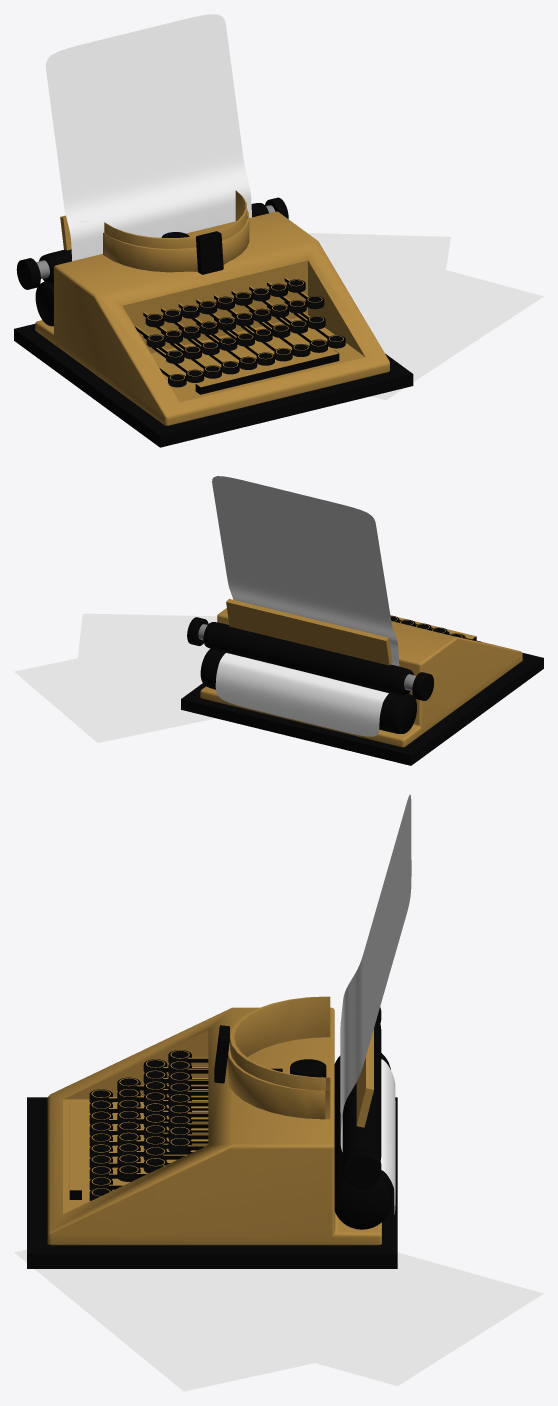
Rendered from typewriting.fbx.
3 renders of one model, top to bottom at view 1: azimuth 30°, elevation 25°; view 2: azimuth 150°, elevation 25°; view 3: azimuth 270°, elevation 25°, orthographic. The views are drawn at different scales.
Visible parts, largest first — view 1: Plane.002, Cube.001, Plane.001, Cube, Plane, Cube.002, Cube.003, Cylinder.003, Cube.004, Cylinder, Cube.005, Cylinder.002 (+2 smaller); view 2: Plane.002, Plane, Plane.001, Cube.001, Cube, Cylinder.002, Cube.006, Cylinder.001, Cylinder.006, Cylinder.005; view 3: Cube.001, Plane.001, Plane, Cube, Plane.002, Cube.003, Cube.002, Cylinder, Cylinder.001, Cylinder.003, Cylinder.002, Cylinder.005 (+3 smaller).
Boxes of the visible parts, x1,y1,x2,y2 form: Plane.002: [46, 14, 251, 261]; Cube.001: [35, 211, 389, 425]; Plane.001: [336, 249, 543, 400]; Cube: [14, 324, 413, 447]; Plane: [307, 233, 450, 359]; Cube.002: [134, 292, 345, 387]; Cube.003: [143, 277, 325, 363]; Cylinder.003: [103, 210, 249, 272]; Cube.004: [195, 350, 339, 394]; Cylinder: [104, 190, 247, 248]; Cube.005: [196, 231, 223, 274]; Cylinder.002: [39, 203, 268, 283]; Plane.002: [212, 476, 399, 736]; Plane: [14, 635, 215, 742]; Plane.001: [74, 613, 217, 695]; Cube.001: [200, 608, 522, 747]; Cube: [181, 653, 543, 765]; Cylinder.002: [203, 622, 413, 695]; Cube.006: [226, 598, 392, 665]; Cylinder.001: [200, 649, 416, 733]; Cylinder.006: [412, 672, 433, 700]; Cylinder.005: [187, 617, 208, 645]; Cube.001: [47, 1007, 381, 1245]; Plane.001: [14, 1249, 334, 1391]; Plane: [278, 1252, 543, 1386]; Cube: [27, 1097, 397, 1268]; Plane.002: [340, 794, 411, 1214]; Cube.003: [117, 1050, 208, 1181]; Cube.002: [89, 1059, 208, 1200]; Cylinder: [230, 996, 330, 1117]; Cylinder.001: [334, 1053, 391, 1229]; Cylinder.003: [227, 1041, 329, 1119]; Cylinder.002: [342, 1017, 381, 1160]; Cylinder.005: [342, 1148, 381, 1188].
Bounding box in the file's own units: 355 × 209 × 286.
